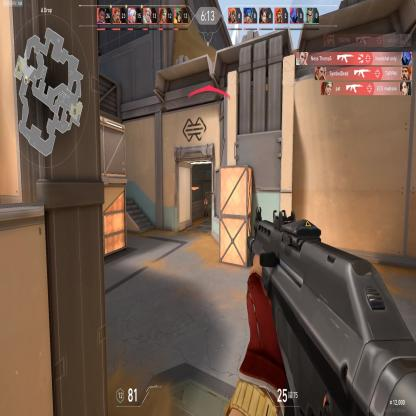enemy: (203, 196, 209, 219)
